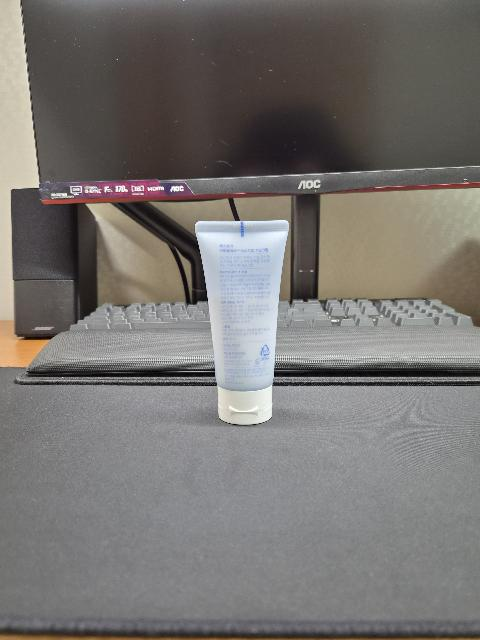handcream: (195, 220, 289, 425)
